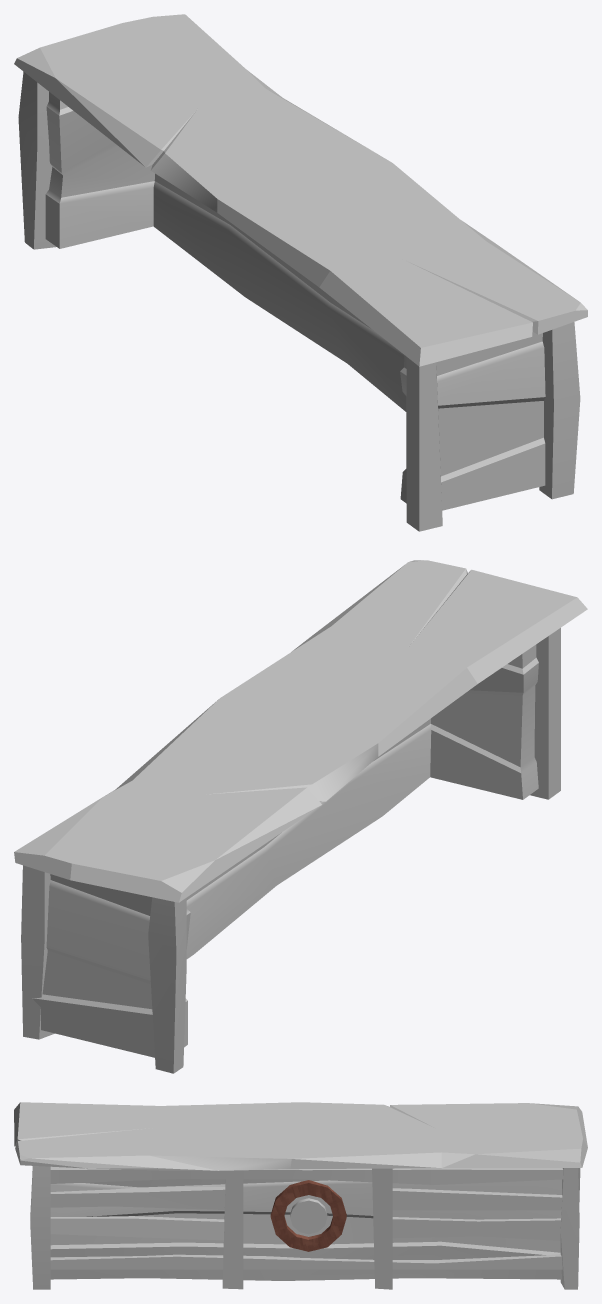
The model's file is Counter_Tavern.fbx.
3 renders of one model, top to bottom at view 1: azimuth 30°, elevation 25°; view 2: azimuth 150°, elevation 25°; view 3: azimuth 270°, elevation 25°, orthographic. The views are drawn at different scales.
Parts seen in each view (by area): view 1: Tavern_Counter; view 2: Tavern_Counter; view 3: Tavern_Counter.
Boxes of the visible parts, bbox=[...] form: Tavern_Counter: bbox=[14, 14, 587, 531]; Tavern_Counter: bbox=[14, 560, 587, 1073]; Tavern_Counter: bbox=[14, 1102, 587, 1289].
Size of the model in its own units: 136 by 138 by 539.
